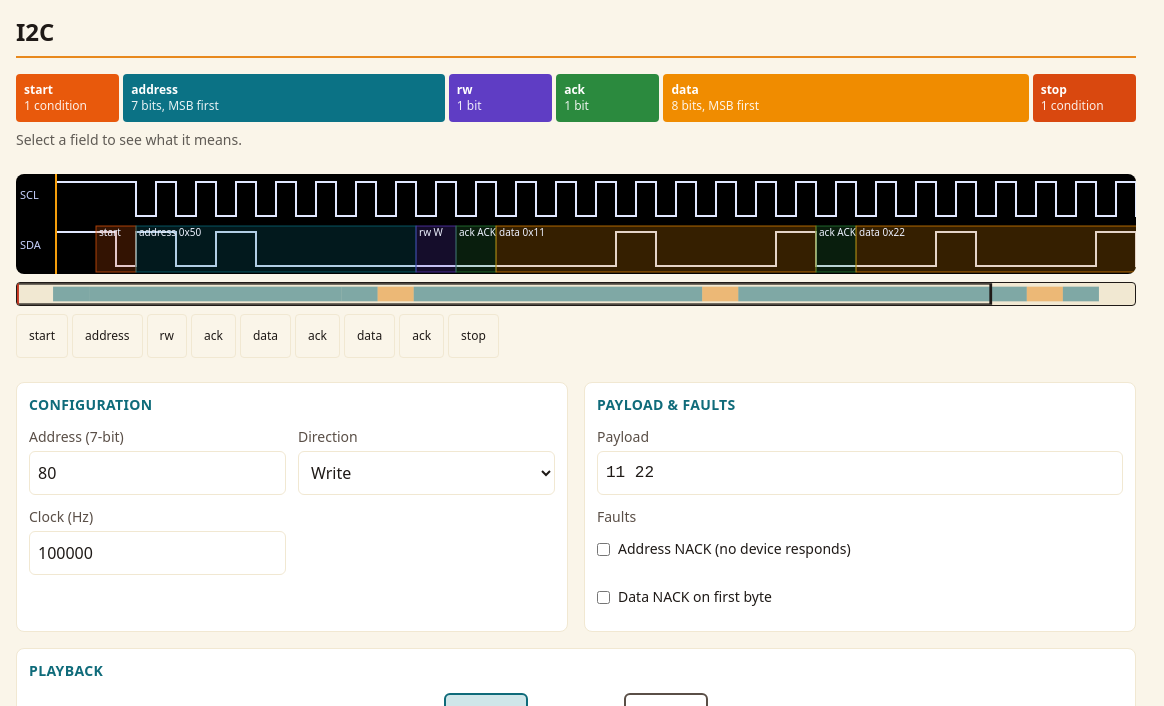
Test: Protocol page layout › clicking an anatomy block shows its meaning
The image size is (1164, 706).
What coordinates should you click on to do the following:
click the button with test id "anatomy-block-address"
I would click on:
 (155, 90)
Its box is [123, 74, 445, 122].
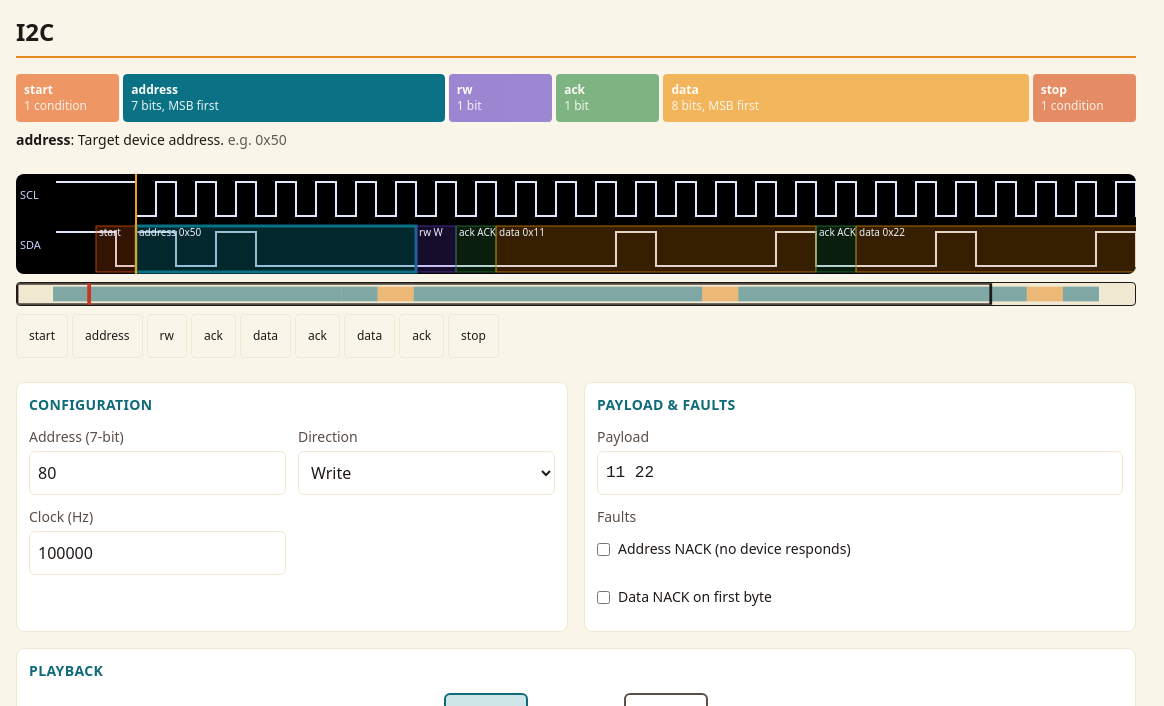
Expected: the element with test id "anatomy-meaning" shows "Target device address.", [78, 130, 224, 149]
